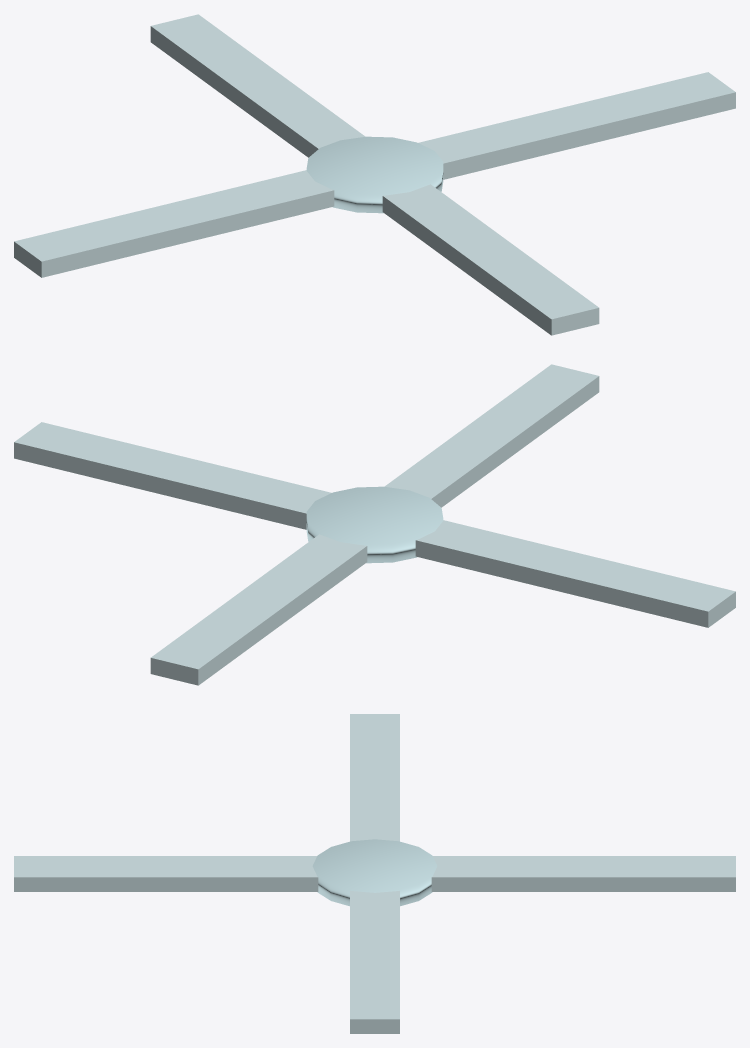
File: propeller.gltf
3 renders of one model, top to bottom at view 1: azimuth 30°, elevation 25°; view 2: azimuth 150°, elevation 25°; view 3: azimuth 270°, elevation 25°, orthographic. The views are drawn at different scales.
Visible parts, largest first — view 1: 円柱; view 2: 円柱; view 3: 円柱.
Part boxes in pixels (x1,y1,x2,y2): 円柱: (14, 14, 735, 335); 円柱: (14, 364, 735, 685); 円柱: (14, 714, 735, 1033).
Size of the model in its own units: 11.61 by 0.3 by 11.61.
